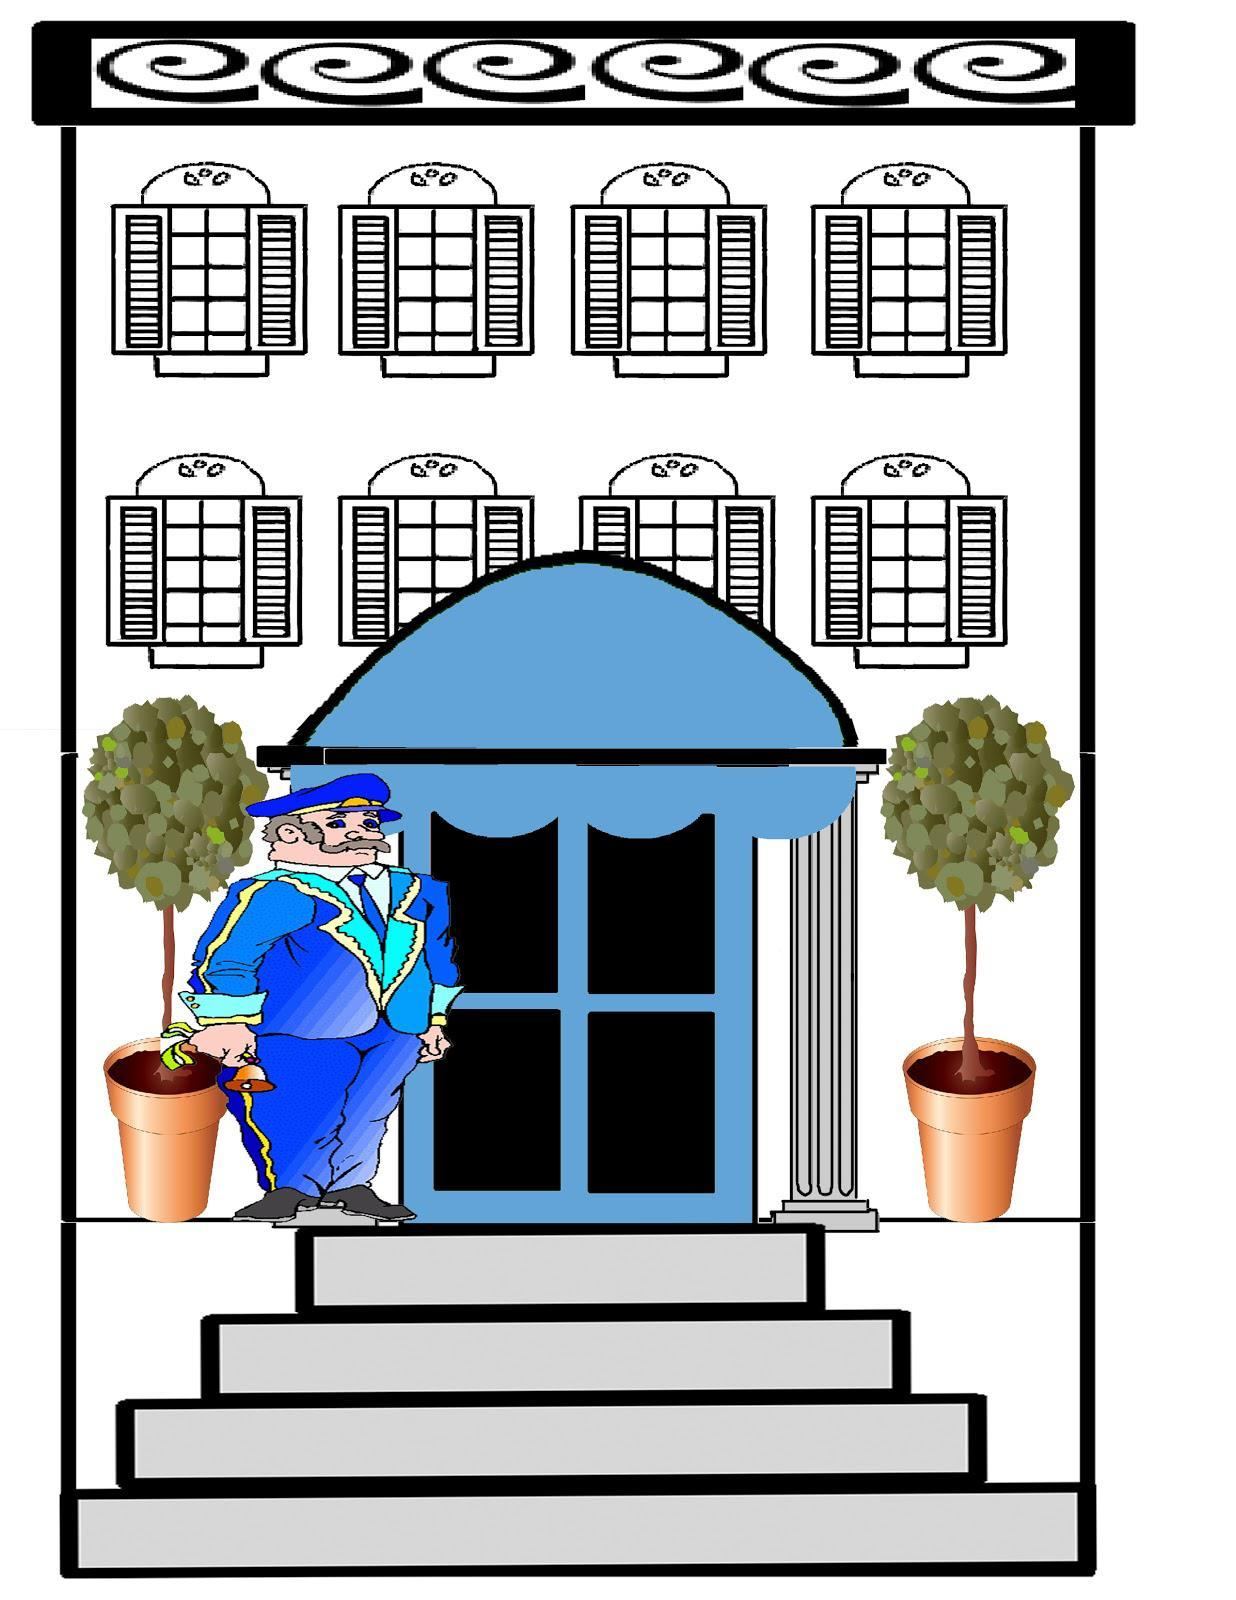person: (186, 779, 461, 1234)
pottedplant: (842, 681, 1068, 1218), (77, 693, 258, 1220)
